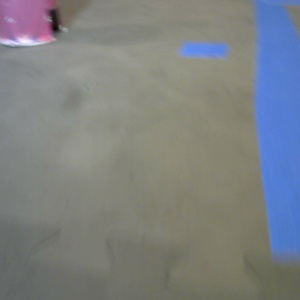middle: (1, 1, 68, 46)
